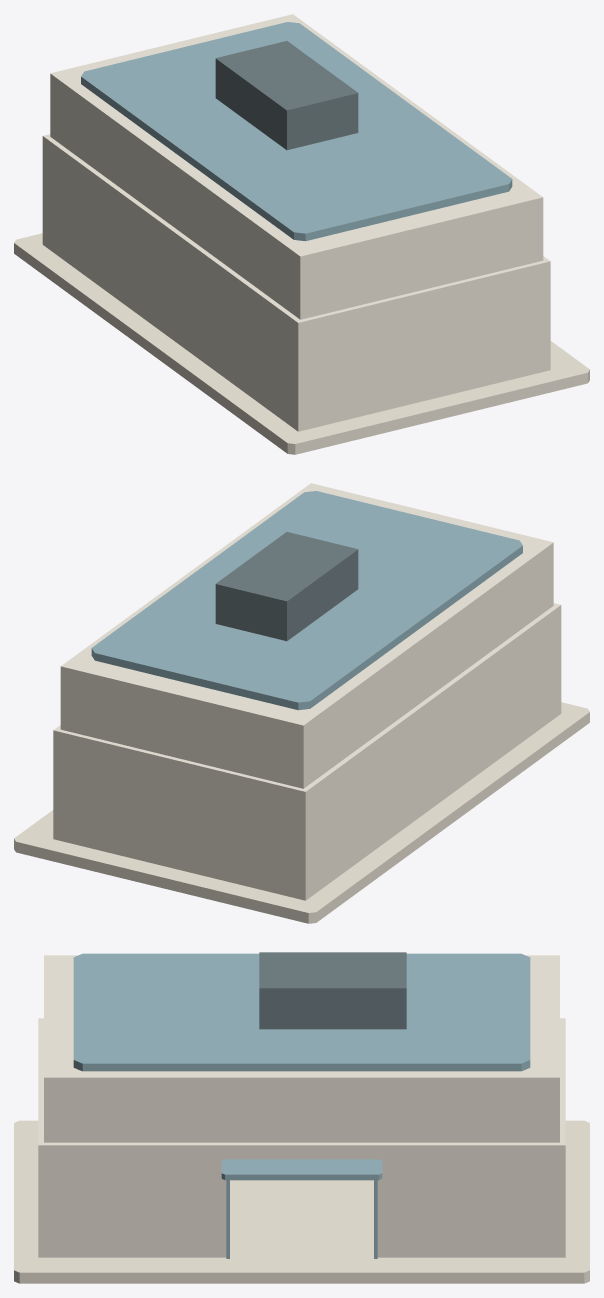
File: Colony_MarketArcade_v4_ShadowProxy.glb
3 views of the same model, one above another, from view 1: azimuth 30°, elevation 25°; view 2: azimuth 150°, elevation 25°; view 3: azimuth 270°, elevation 25° (orthographic). The views are drawn at different scales.
Visible parts, largest first — view 1: Colony_MarketArcade_v4_ShadowProxy / Structure, Colony_MarketArcade_v4_ShadowProxy / Roof, Colony_MarketArcade_v4_ShadowProxy / Foundation; view 2: Colony_MarketArcade_v4_ShadowProxy / Structure, Colony_MarketArcade_v4_ShadowProxy / Roof, Colony_MarketArcade_v4_ShadowProxy / Foundation; view 3: Colony_MarketArcade_v4_ShadowProxy / Structure, Colony_MarketArcade_v4_ShadowProxy / Roof, Colony_MarketArcade_v4_ShadowProxy / Foundation, Colony_MarketArcade_v4_ShadowProxy / Entrance modules.
Part boxes in pixels (box(x1,y1,x2,y2)): Colony_MarketArcade_v4_ShadowProxy / Structure: box(42, 14, 550, 431); Colony_MarketArcade_v4_ShadowProxy / Roof: box(81, 22, 512, 241); Colony_MarketArcade_v4_ShadowProxy / Foundation: box(14, 233, 589, 454); Colony_MarketArcade_v4_ShadowProxy / Structure: box(53, 483, 561, 900); Colony_MarketArcade_v4_ShadowProxy / Roof: box(91, 491, 522, 710); Colony_MarketArcade_v4_ShadowProxy / Foundation: box(14, 702, 589, 923); Colony_MarketArcade_v4_ShadowProxy / Structure: box(38, 955, 565, 1257); Colony_MarketArcade_v4_ShadowProxy / Roof: box(73, 952, 530, 1071); Colony_MarketArcade_v4_ShadowProxy / Foundation: box(14, 1120, 589, 1283); Colony_MarketArcade_v4_ShadowProxy / Entrance modules: box(221, 1159, 382, 1258).
Size of the model in its own units: 10 by 7.28 by 16.
